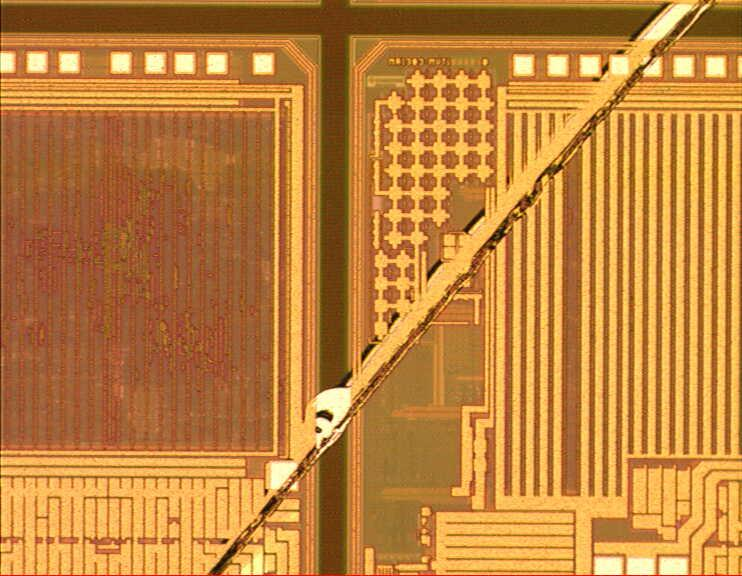SCRATCH: (192, 1, 725, 576)
